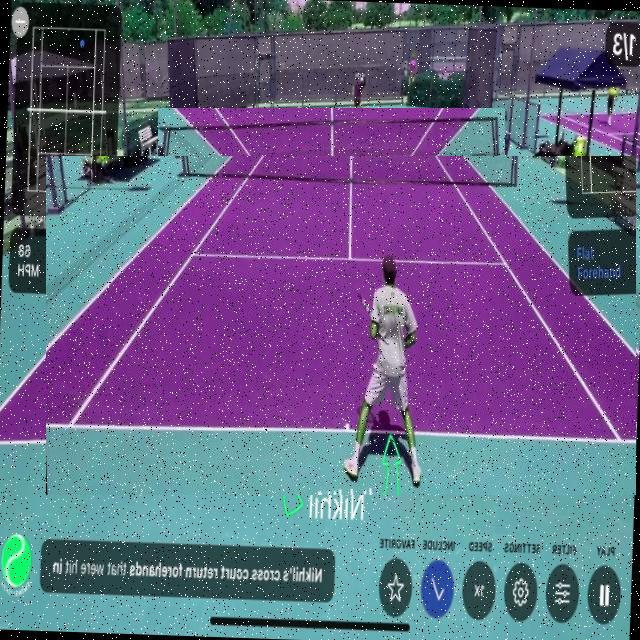court: (46, 156, 636, 495)
net: (158, 108, 505, 196)
player: (255, 240, 346, 487)
